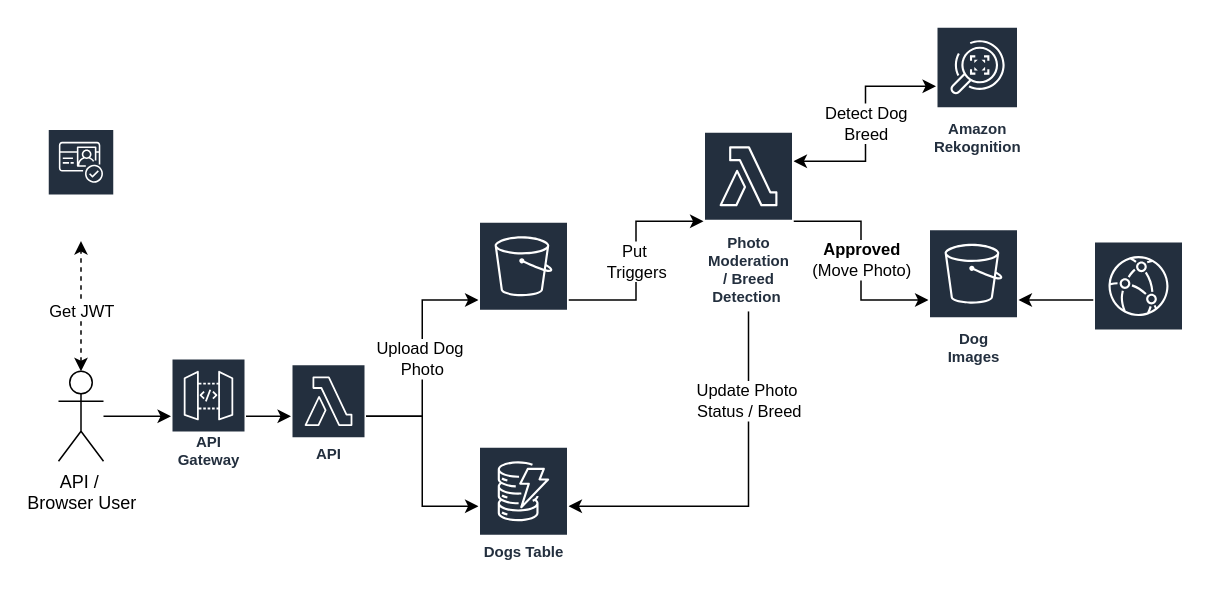
Some shapes in this 1209 by 593 pixel diagram are drawn without their labels. The centre of each missing label's shape, as x and y in pixels:
Amazon Cognito: (x=80, y=184)
CDN: (x=1138, y=299)
Pending Dog Images: (x=522, y=299)
